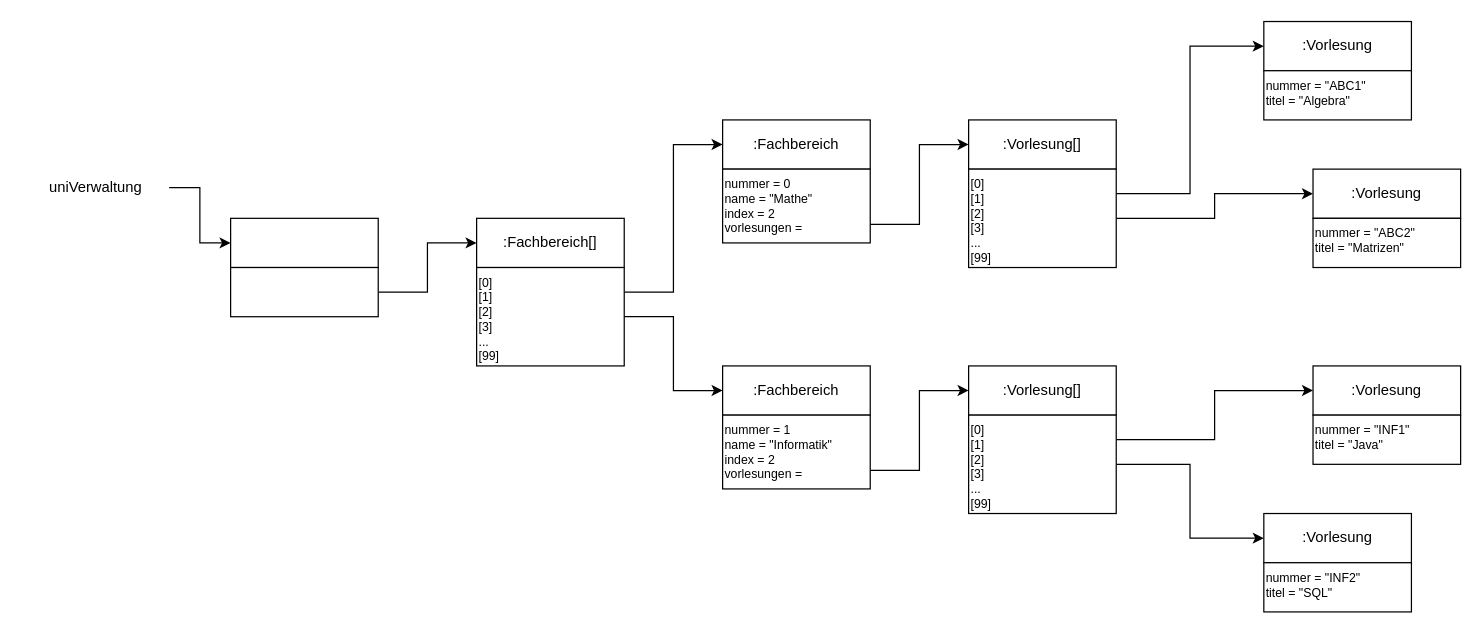
Image size: 1482x633. Some labels were removed from this diagram. Each missing label, with the centre of its shape:
":UniVerwaltung" belongs at point (303, 242).
"index = 2 fachbereiche =" belongs at point (303, 291).
